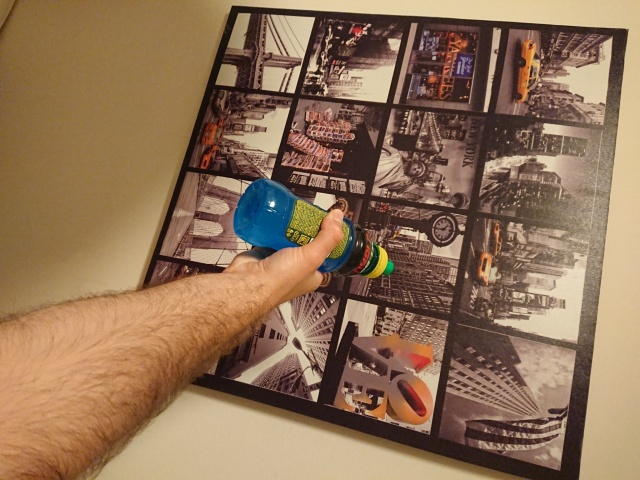Vindi Iso Sport Forest Strawberries 500mL: (231, 176, 395, 279)
